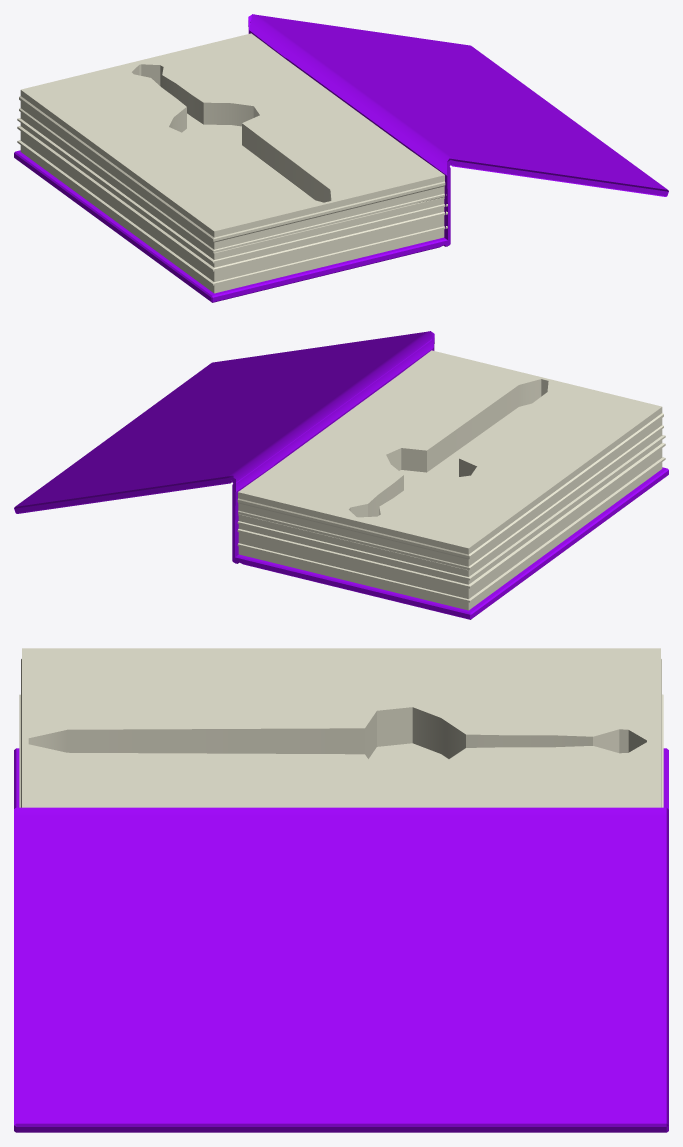
The model's file is Main Book.fbx.
3 views of the same model, one above another, from view 1: azimuth 30°, elevation 25°; view 2: azimuth 150°, elevation 25°; view 3: azimuth 270°, elevation 25° (orthographic). The views are drawn at different scales.
Parts seen in each view (by area): view 1: pCube23, pCube21, pasted__pCube20; view 2: pCube23, pCube21, pasted__pCube20; view 3: pCube21, pCube23, pasted__pCube20.
Part boxes in pixels (bbox=[...]): pCube23: bbox=[19, 33, 446, 252]; pCube21: bbox=[14, 14, 668, 302]; pasted__pCube20: bbox=[17, 112, 447, 293]; pCube23: bbox=[237, 350, 663, 570]; pCube21: bbox=[14, 331, 668, 619]; pasted__pCube20: bbox=[237, 403, 665, 610]; pCube21: bbox=[14, 748, 668, 1132]; pCube23: bbox=[21, 648, 661, 807]; pasted__pCube20: bbox=[19, 694, 663, 807].
Size of the model in its own units: 6.82 by 1.3 by 5.13.
